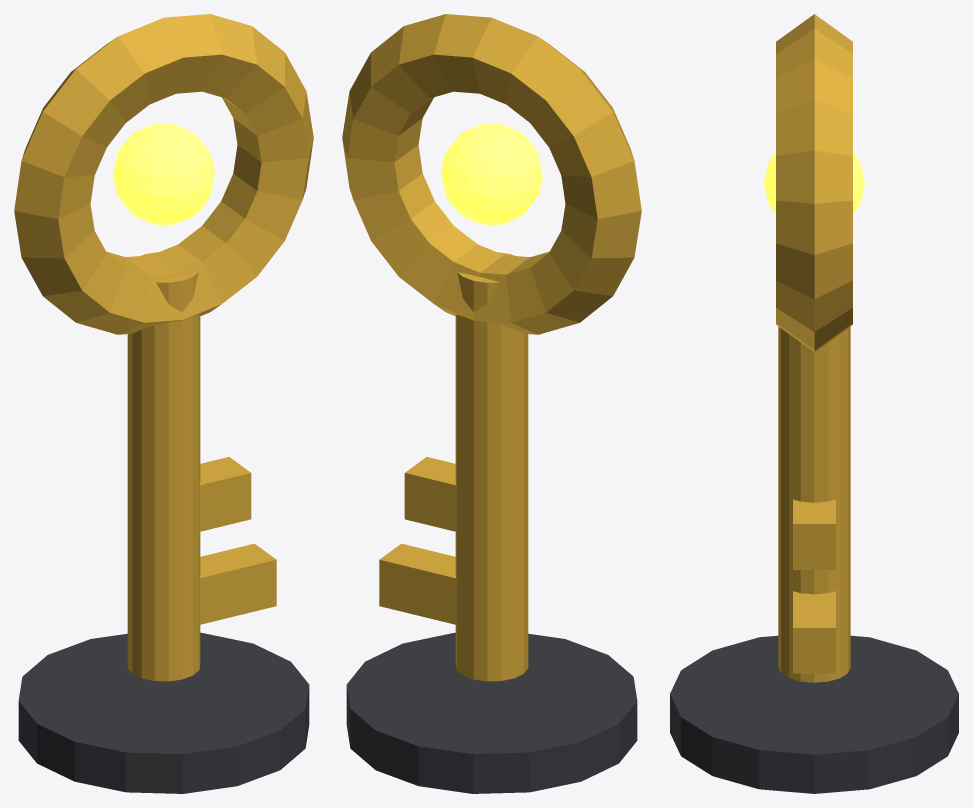
The model's file is key-lod0.glb.
3 renders of one model, left to right at view 1: azimuth 30°, elevation 25°; view 2: azimuth 150°, elevation 25°; view 3: azimuth 270°, elevation 25°, orthographic.
Visible parts, largest first — view 1: key; view 2: key; view 3: key.
Part boxes in pixels (x1=…): key: x1=14, y1=14, x2=313, y2=793; key: x1=342, y1=14, x2=641, y2=793; key: x1=670, y1=14, x2=958, y2=793.
Bounding box in the file's own units: 0.236 × 0.538 × 0.2.
